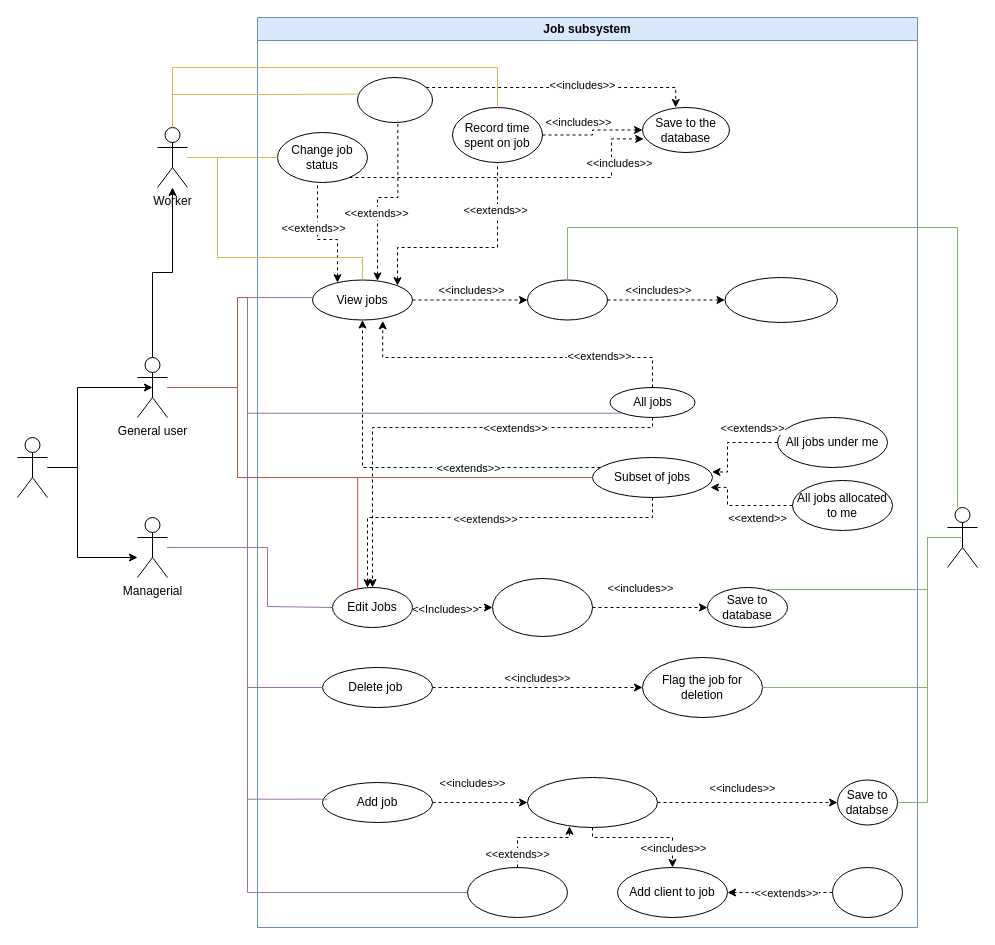
This 995x945 diagram has some shape labels left out. Here are the shapes that lost their labels. From the top down, the centre of each, then its label:
At point 394,99: "Record job details".
At point 567,299: "Retrieve information".
At point 781,299: "Display information".
At point 32,467: "User".
At point 962,537: "API".
At point 542,607: "Change any details of a job".
At point 592,802: "Enter all job detials".
At point 517,892: "Assign employee".
At point 867,892: "Add new client".
